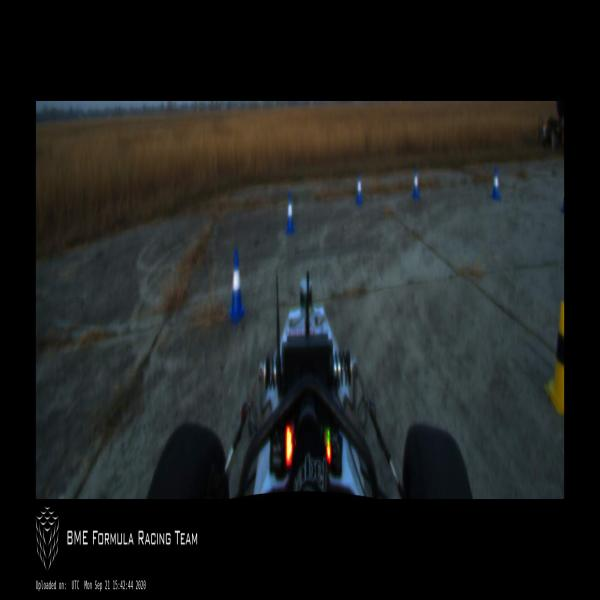blue_cone: (228, 249, 244, 321), (285, 193, 295, 234), (492, 167, 500, 200), (412, 167, 419, 199), (356, 172, 362, 205)
yellow_cone: (545, 300, 564, 415)
